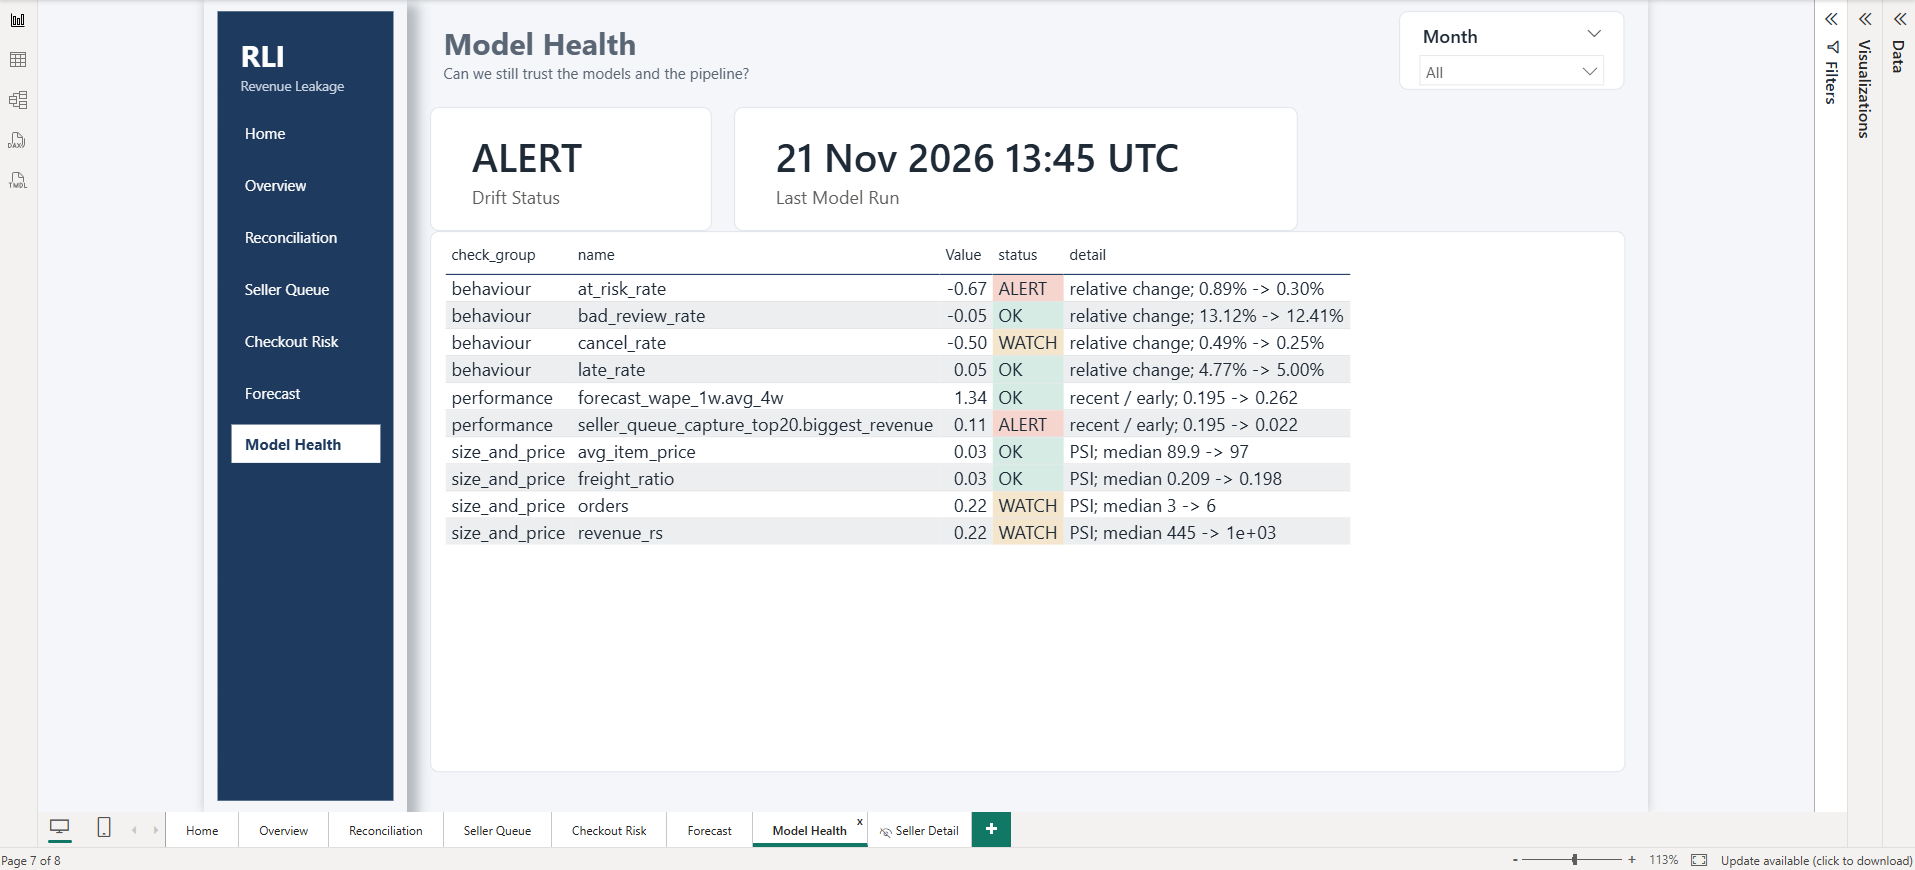

Layout of this report page (visuals, bound fields, positions):
{"tool":"powerbi","page":{"name":"Model Health","canvas":[1280,720],"ordinal":6},"visuals":[{"type":"shape","box":[0,0,180,720],"z":0},{"type":"pageNavigator","box":[12,90,156,330],"z":1},{"type":"textbox","box":[20,20,150,78],"z":2},{"type":"textbox","box":[200,10,600,75],"z":3},{"type":"slicer","fields":{"Values":["DimDate.Month"]},"box":[1060,10,200,70],"z":4},{"type":"cardVisual","fields":{"Data":["_Measures.Drift Status"]},"box":[200,95,250,110],"z":5},{"type":"tableEx","fields":{"Values":["ml_drift_checks.check_group","ml_drift_checks.name","Sum(ml_drift_checks.value)","ml_drift_checks.status","ml_drift_checks.detail"]},"box":[200,205,1060,480],"z":6},{"type":"cardVisual","fields":{"Data":["DimDate.Last Model Run"]},"box":[470,95,500,110],"z":7}]}

Visuals, with their boxes on the page's 1280x720 design canvas (x1, y1, x2, y2). These are canvas units, not pixel positions in the 1915x870 screenshot, which may show the page scaled, cropped or inside an application window:
shape: 0:0:180:720
pageNavigator: 12:90:168:420
textbox: 20:20:170:98
textbox: 200:10:800:85
slicer - DimDate.Month: 1060:10:1260:80
cardVisual - _Measures.Drift Status: 200:95:450:205
tableEx - ml_drift_checks.check_group x ml_drift_checks.name: 200:205:1260:685
cardVisual - DimDate.Last Model Run: 470:95:970:205
